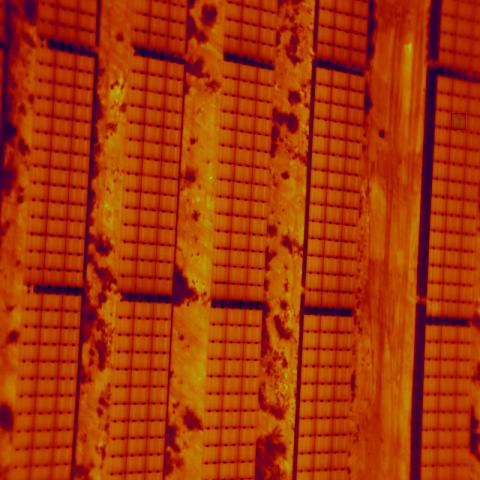fault: (451, 113, 466, 130)
